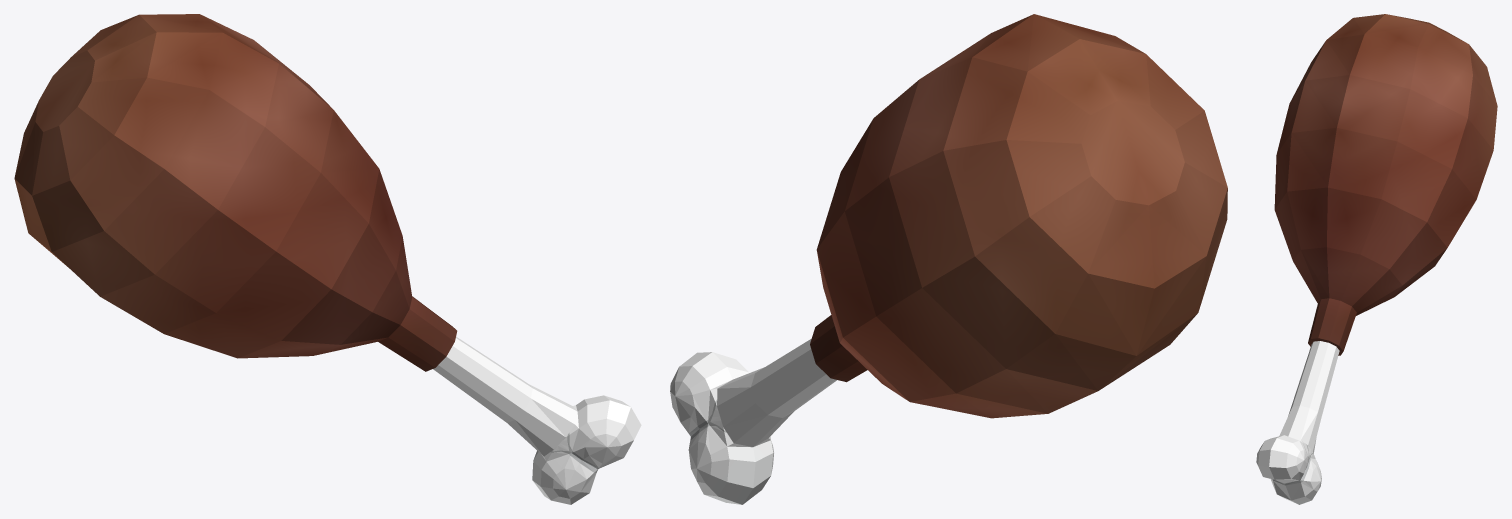
Rendered from TURKEY LEG.fbx.
3 renders of one model, left to right at view 1: azimuth 30°, elevation 25°; view 2: azimuth 150°, elevation 25°; view 3: azimuth 270°, elevation 25°, orthographic. The views are drawn at different scales.
Visible parts, largest first — view 1: TURKEY_LEG; view 2: TURKEY_LEG; view 3: TURKEY_LEG.
Part boxes in pixels (<box>): TURKEY_LEG: <box>14,14,641,504</box>; TURKEY_LEG: <box>670,14,1227,504</box>; TURKEY_LEG: <box>1256,14,1497,504</box>.
Size of the model in its own units: 27.26 by 25.59 by 15.22.
